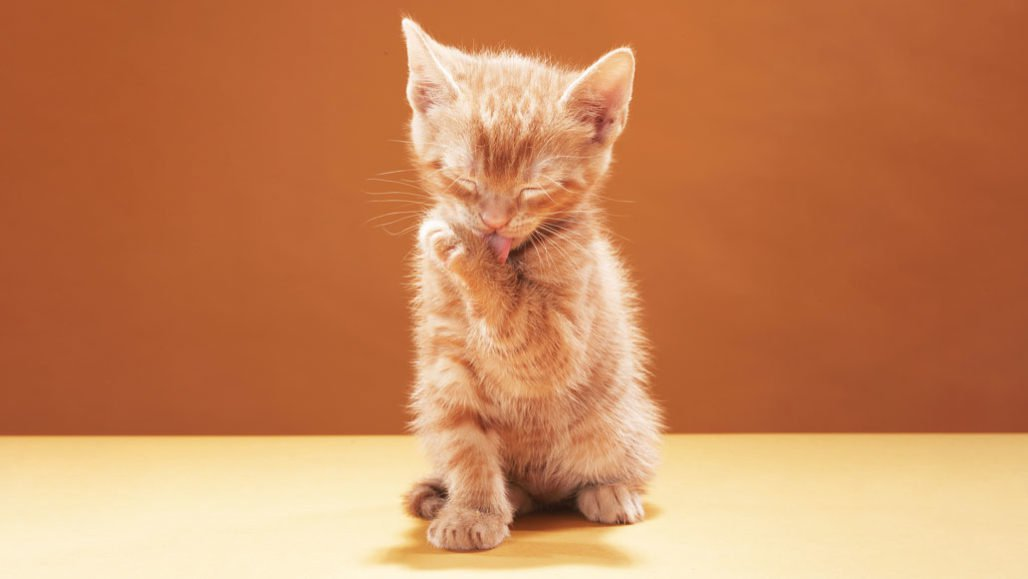cat: (380, 9, 677, 557)
